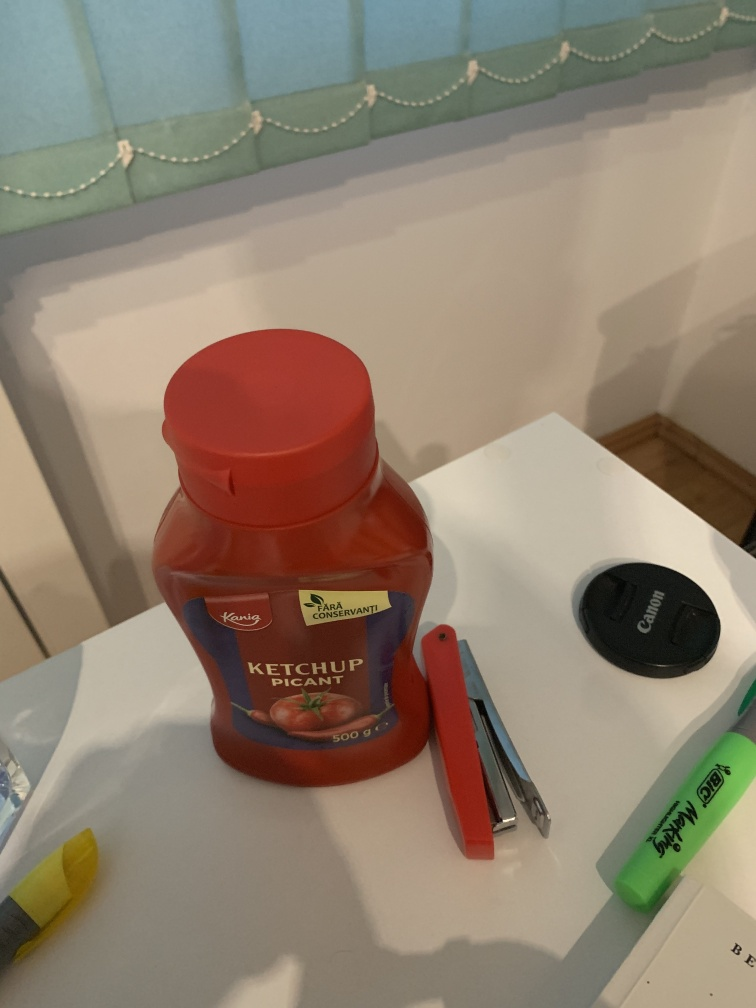ketchup: (145, 325, 453, 784)
